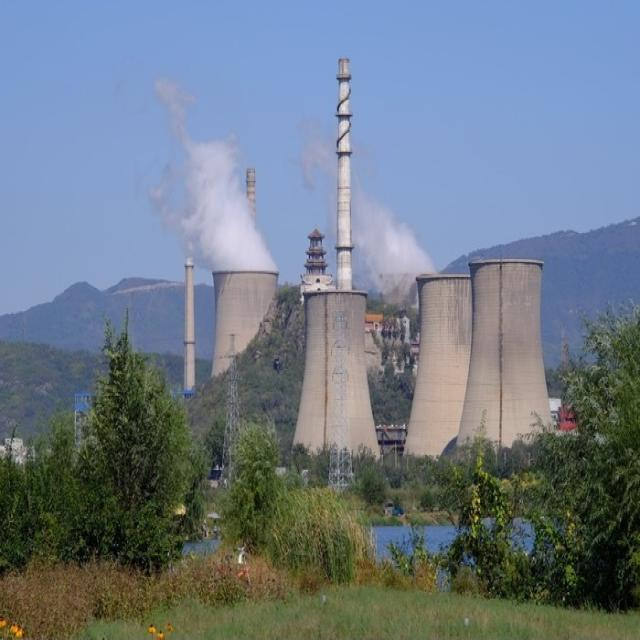Smoke: (154, 84, 281, 272), (353, 191, 433, 275)
